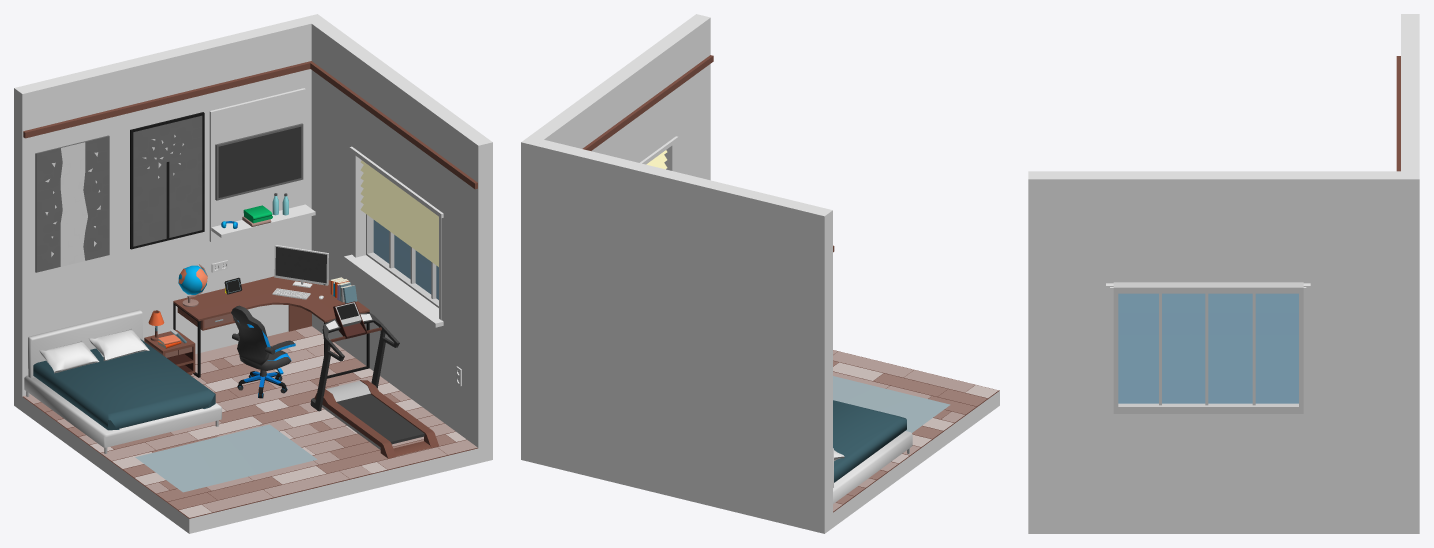
The model's file is room_3.glb.
3 views of the same model, side by side, from view 1: azimuth 30°, elevation 25°; view 2: azimuth 150°, elevation 25°; view 3: azimuth 270°, elevation 25° (orthographic). The views are drawn at different scales.
Visible parts, largest first — view 1: Walls_006.001, floor_018.001, bed_016.001, Walls_006.009, Walls_006.004, Walls_056.002, picture_008.001, picture_040.001, Walls_006.010, training_item_001.001, Walls_006.011, carpet_006.001 (+15 smaller); view 2: Walls_006.001, Walls_006.010, Walls_006.004, Walls_006.009, floor_018.001, bed_016.001, Walls_056.002, carpet_006.001, Walls_021.002; view 3: Walls_006.004, Walls_006.009, window_017.001, Walls_006.011, Walls_006.010, Walls_006.001, Walls_021.001, Walls_005.049, Walls_005.050.
Boxes of the visible parts, x1,y1,x2,y2 form: Walls_006.001: (14, 17, 311, 411); floor_018.001: (23, 326, 477, 517); bed_016.001: (24, 310, 221, 453); Walls_006.009: (440, 114, 492, 463); Walls_006.004: (303, 14, 369, 357); Walls_056.002: (22, 330, 478, 533); picture_008.001: (130, 112, 204, 249); picture_040.001: (35, 135, 109, 272); Walls_006.010: (355, 52, 453, 210); training_item_001.001: (310, 301, 438, 458); Walls_006.011: (355, 269, 439, 419); carpet_006.001: (135, 424, 317, 492); Walls_006.001: (535, 140, 832, 533); Walls_006.010: (574, 42, 672, 162); Walls_006.004: (521, 104, 587, 463); Walls_006.009: (658, 14, 710, 180); floor_018.001: (833, 350, 998, 511); bed_016.001: (833, 400, 912, 503); Walls_056.002: (833, 350, 999, 527); carpet_006.001: (833, 376, 950, 432); Walls_021.002: (582, 55, 713, 150); Walls_006.004: (1302, 171, 1419, 533); Walls_006.009: (1028, 171, 1114, 533); window_017.001: (1113, 282, 1303, 413); Walls_006.011: (1114, 414, 1302, 533); Walls_006.010: (1114, 171, 1302, 282); Walls_006.001: (1401, 14, 1419, 171); Walls_021.001: (1396, 56, 1400, 171); Walls_005.049: (1303, 287, 1306, 410); Walls_005.050: (1110, 287, 1113, 410).
Bounding box in the file's own units: 4.33 × 4.2 × 4.2.
Materials: 1 (1 with a texture image).
